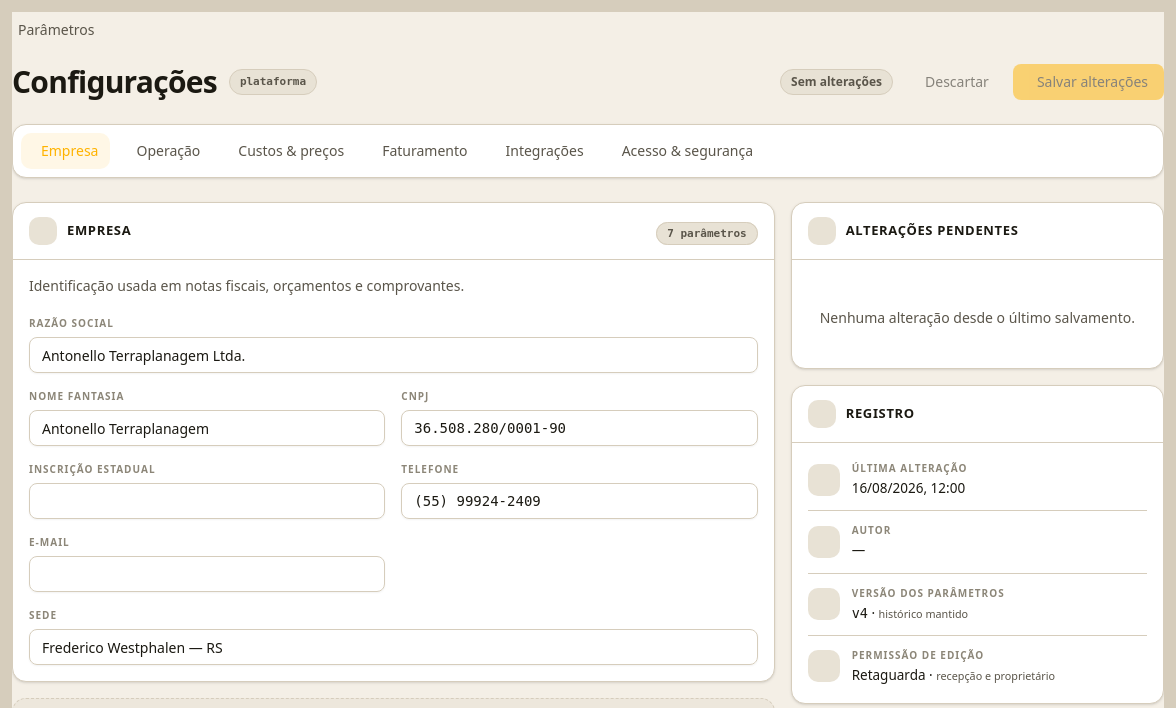
Scenario: ConfiguracoesPage › descartar volta o formulário ao valor carregado
Replace the text in the field labelled "Nome fantasia" with "Outro nome" at (207, 428), box [29,410,385,446]
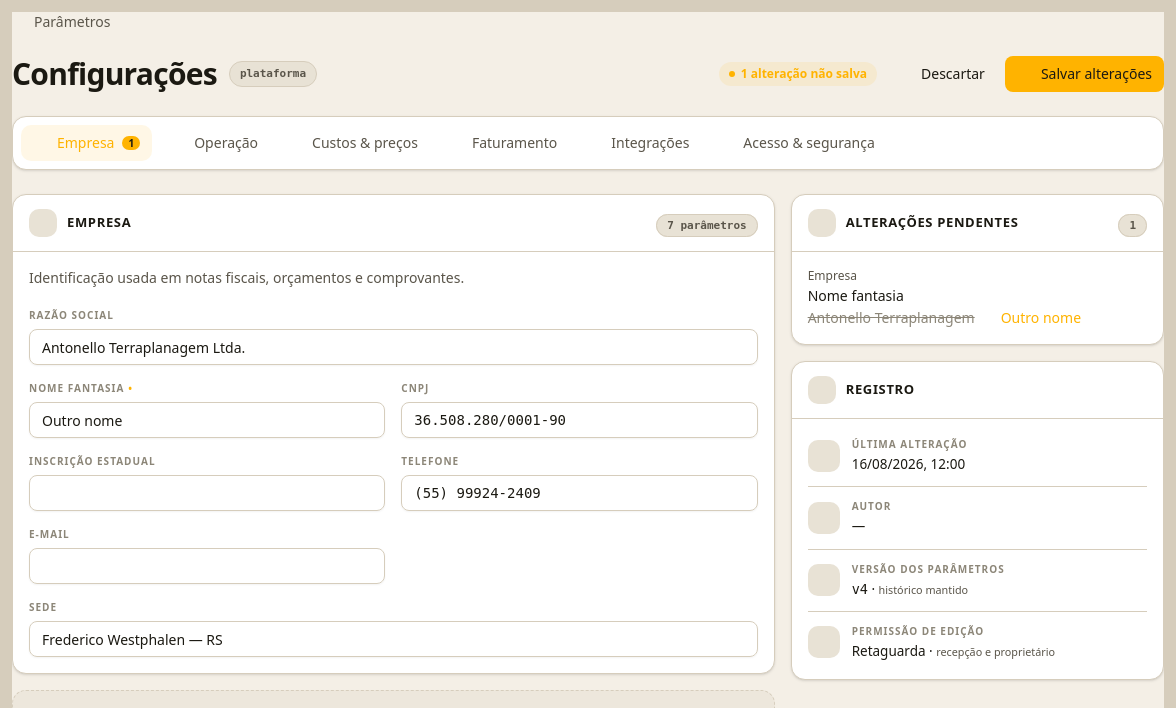
Expected: the text "1 alteração não salva" is shown, [719,62,877,86]
Click the button "Descartar" at (941, 74), box [885,56,997,92]
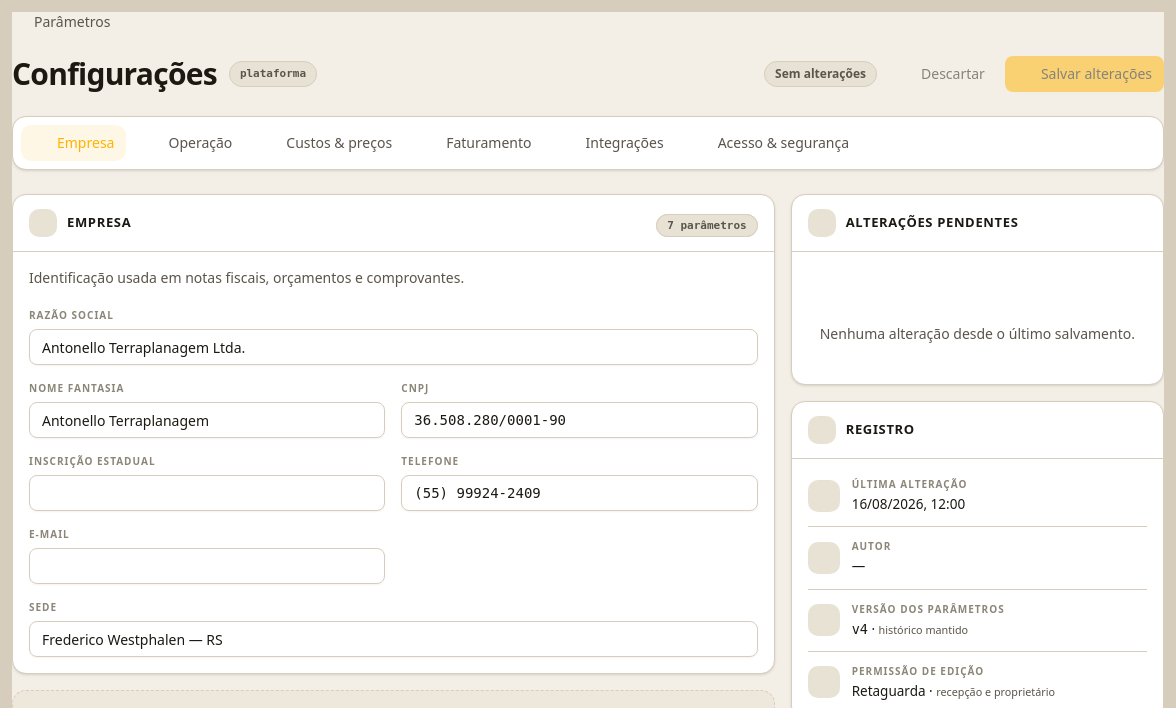
Expected: the text "Sem alterações" is shown, [764,61,877,87]
Expected: the field labelled "Nome fantasia" holds "Antonello Terraplanagem", [29,402,385,438]
